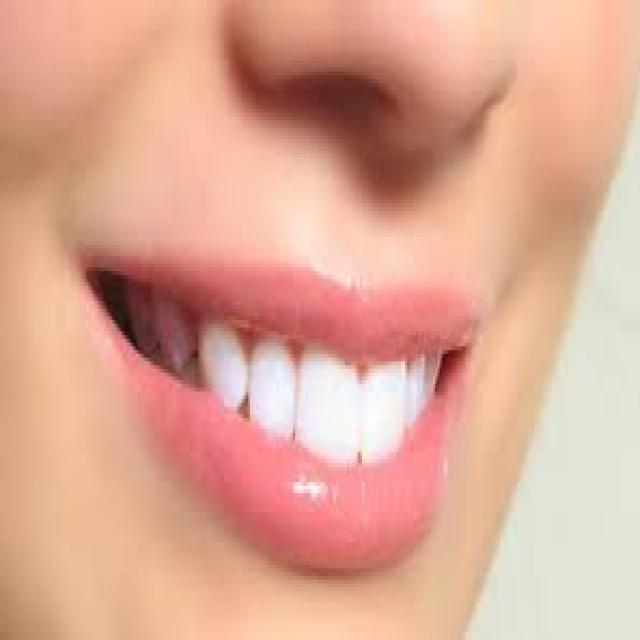tooth: (300, 346, 358, 463), (196, 298, 241, 410), (252, 350, 293, 422), (366, 369, 401, 452), (157, 305, 190, 373), (410, 366, 424, 426)
